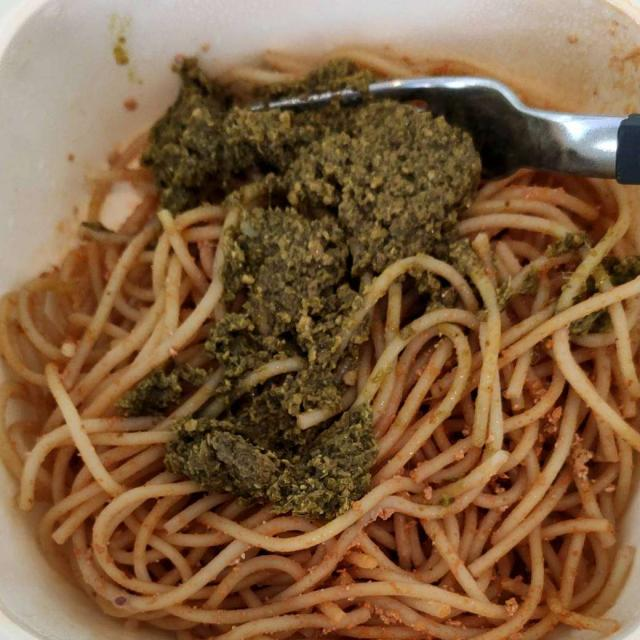pasta-spaghetti: (3, 50, 637, 635)
